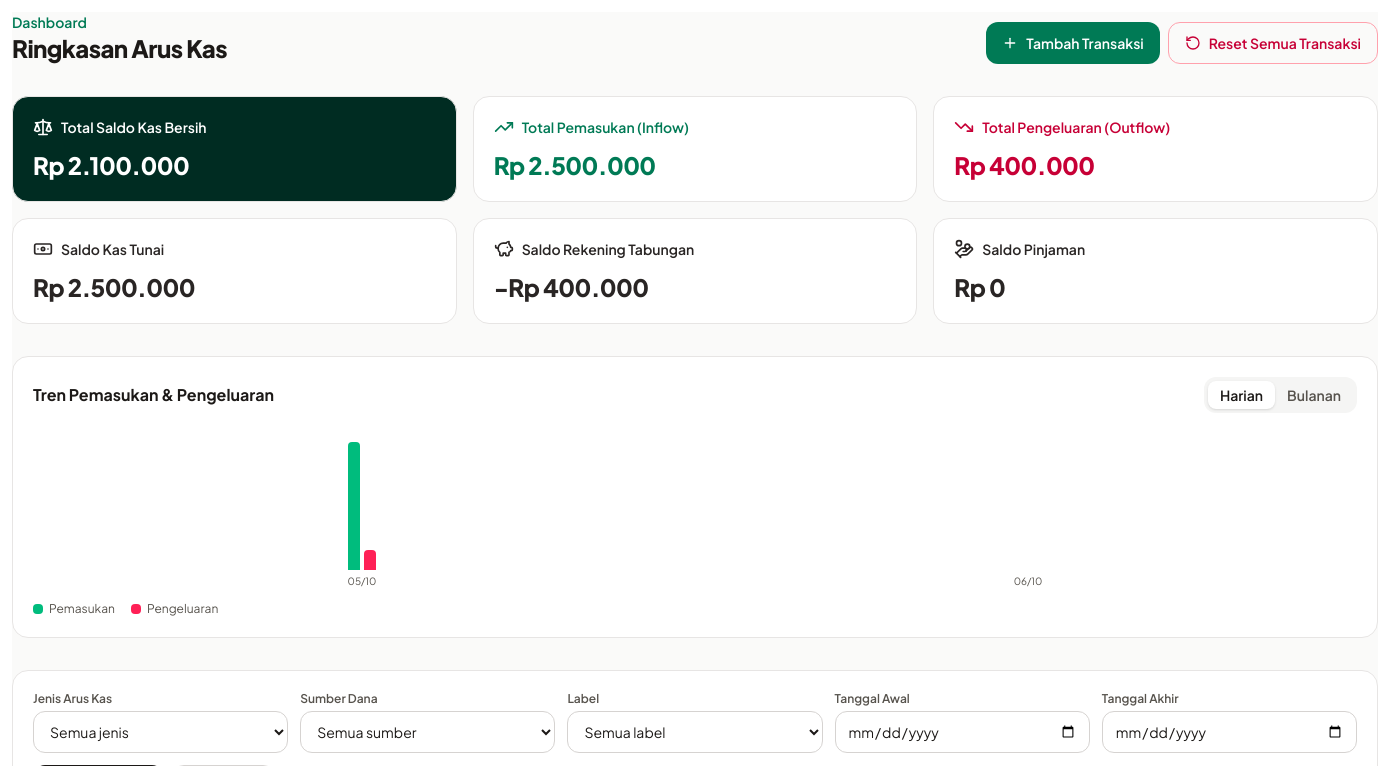
Test: HomePage › menampilkan grafik harian lalu bulanan
This screenshot has width=1390, height=766.
Expected: the number of elements with test id "stat-bar" is 2, [348,442,376,587]; [1014,575,1042,587]
Expected: the text "05/10" is shown, [348,574,376,589]
Step 1. Click the button "Bulanan" → (1314, 395), box [1275,381,1353,409]
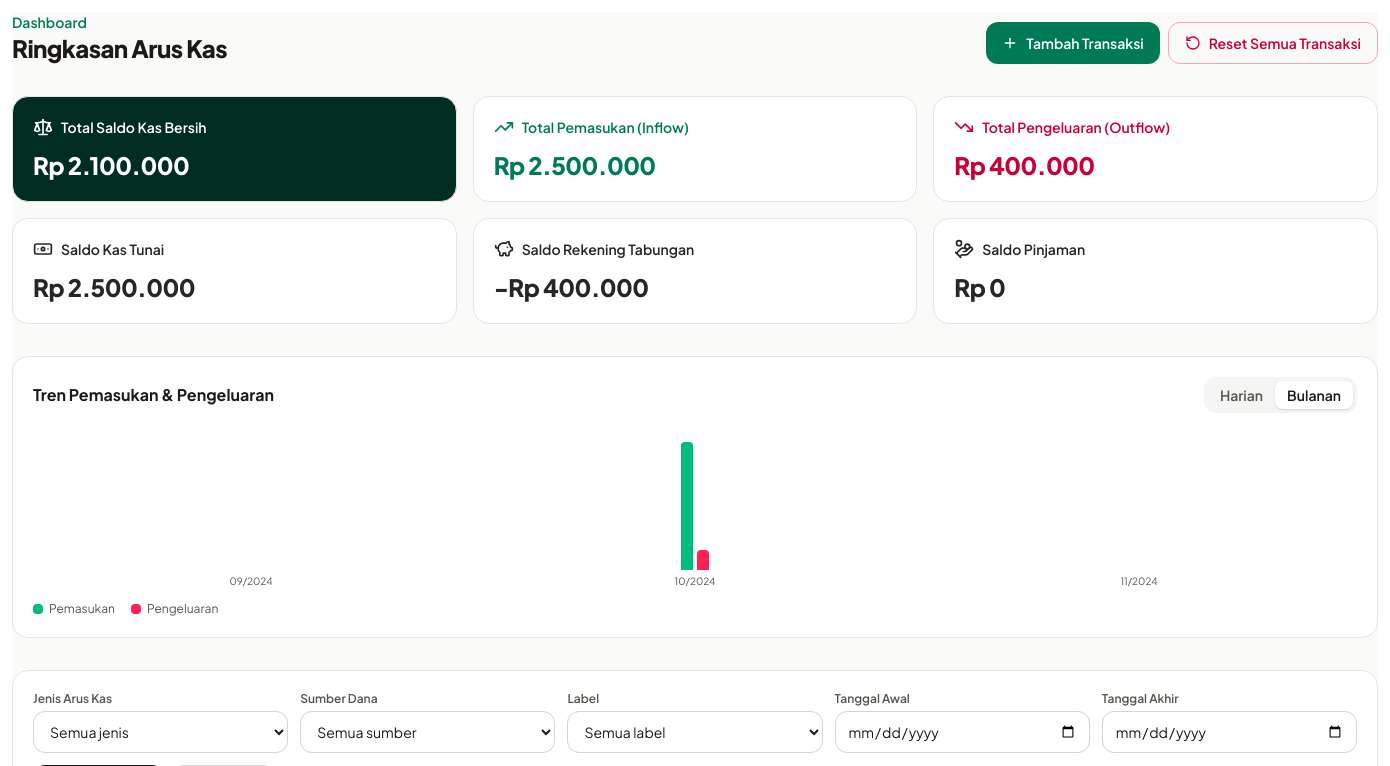
Result: the number of elements with test id "stat-bar" is 3 at [229,575,272,587]; [675,442,715,587]; [1120,575,1158,587]
Result: the text "10/2024" is shown at [675,574,715,589]
Step 2. Click the button "Harian" → (1242, 395), box [1208,381,1275,409]
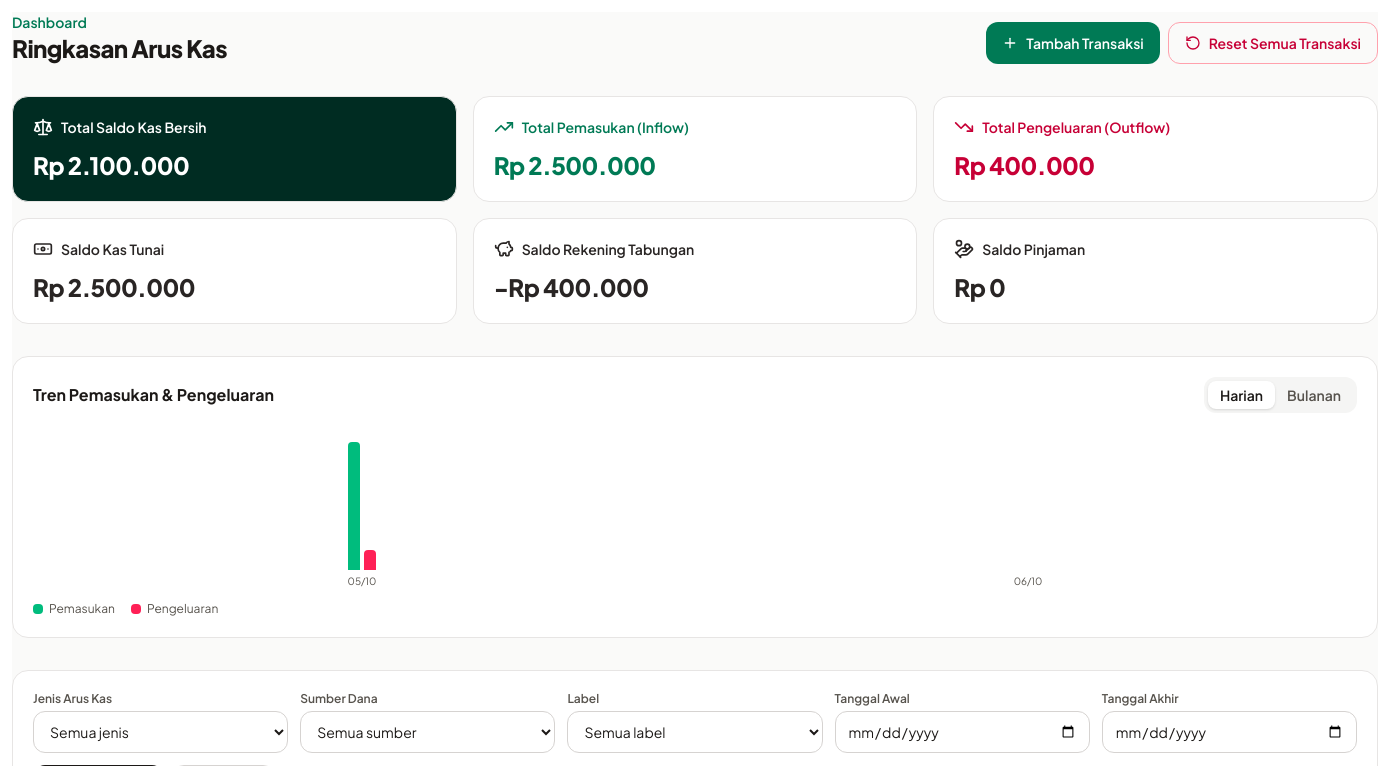
Result: the number of elements with test id "stat-bar" is 2 at [348,442,376,587]; [1014,575,1042,587]
